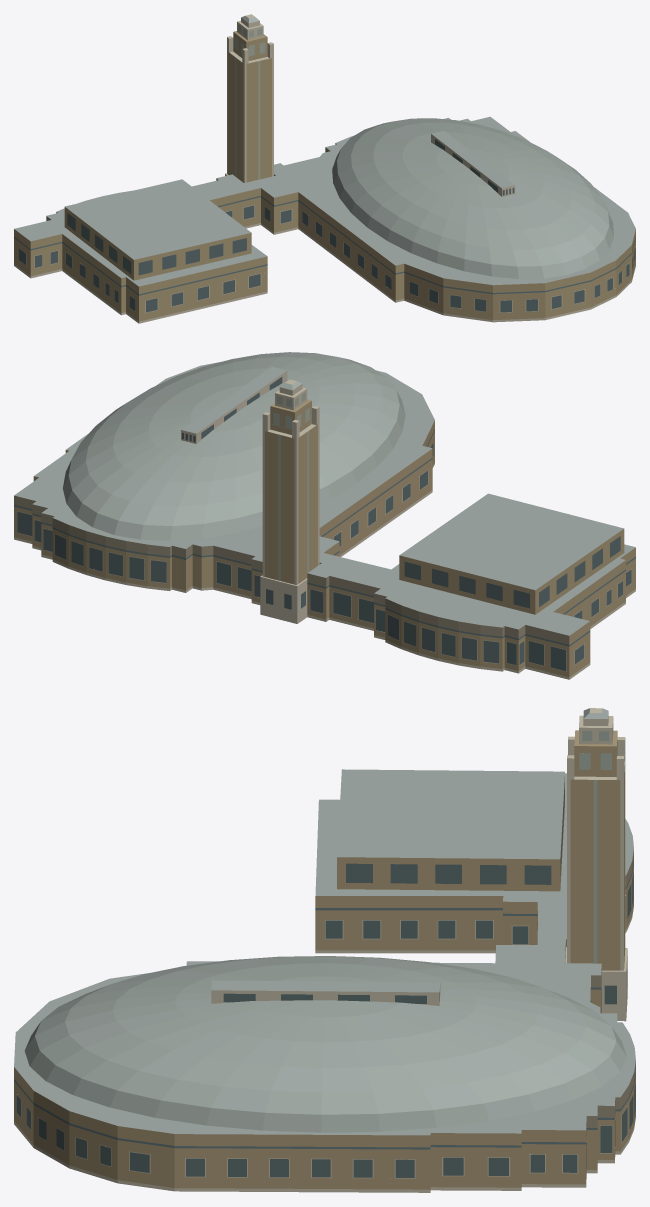
Rendered from will-rogers-memorial-center-far.glb.
The picture shows the model from 3 angles, top to bottom: view 1: azimuth 30°, elevation 25°; view 2: azimuth 150°, elevation 25°; view 3: azimuth 270°, elevation 25°; orthographic projection. The views are drawn at different scales.
Parts seen in each view (by area): view 1: will-rogers-memorial-center-0-roof, will-rogers-memorial-center-0-brick, will-rogers-memorial-center-0-glass, will-rogers-memorial-center-0-stone, will-rogers-memorial-center-0-tile, will-rogers-memorial-center-0-glow; view 2: will-rogers-memorial-center-0-roof, will-rogers-memorial-center-0-brick, will-rogers-memorial-center-0-glass, will-rogers-memorial-center-0-stone, will-rogers-memorial-center-0-mural, will-rogers-memorial-center-0-tile, will-rogers-memorial-center-0-glow; view 3: will-rogers-memorial-center-0-roof, will-rogers-memorial-center-0-brick, will-rogers-memorial-center-0-glass, will-rogers-memorial-center-0-stone, will-rogers-memorial-center-0-tile, will-rogers-memorial-center-0-glow, will-rogers-memorial-center-0-mural.
Boxes of the visible parts, bbox=[...] form: will-rogers-memorial-center-0-roof: bbox=[14, 16, 635, 286]; will-rogers-memorial-center-0-brick: bbox=[14, 31, 635, 321]; will-rogers-memorial-center-0-glass: bbox=[18, 139, 635, 312]; will-rogers-memorial-center-0-stone: bbox=[14, 14, 635, 323]; will-rogers-memorial-center-0-tile: bbox=[14, 196, 635, 295]; will-rogers-memorial-center-0-glow: bbox=[234, 25, 265, 179]; will-rogers-memorial-center-0-roof: bbox=[14, 352, 635, 635]; will-rogers-memorial-center-0-brick: bbox=[14, 399, 635, 677]; will-rogers-memorial-center-0-glass: bbox=[17, 377, 631, 670]; will-rogers-memorial-center-0-stone: bbox=[14, 371, 635, 679]; will-rogers-memorial-center-0-mural: bbox=[14, 495, 569, 644]; will-rogers-memorial-center-0-tile: bbox=[14, 430, 635, 646]; will-rogers-memorial-center-0-glow: bbox=[273, 392, 309, 580]; will-rogers-memorial-center-0-roof: bbox=[14, 708, 635, 1135]; will-rogers-memorial-center-0-brick: bbox=[14, 730, 635, 1189]; will-rogers-memorial-center-0-glass: bbox=[16, 783, 635, 1177]; will-rogers-memorial-center-0-stone: bbox=[14, 708, 635, 1192]; will-rogers-memorial-center-0-tile: bbox=[14, 862, 635, 1149]; will-rogers-memorial-center-0-glow: bbox=[579, 722, 617, 963]; will-rogers-memorial-center-0-mural: bbox=[566, 850, 635, 1133].
Bounding box in the file's own units: 165 × 63.4 × 120.
